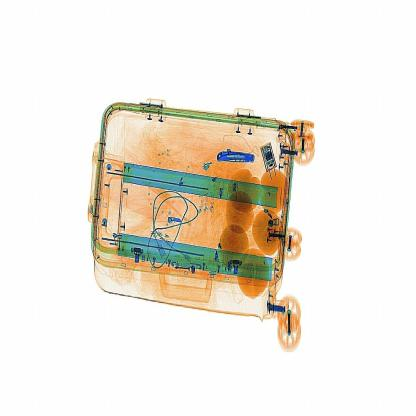knife: (216, 141, 259, 177)
